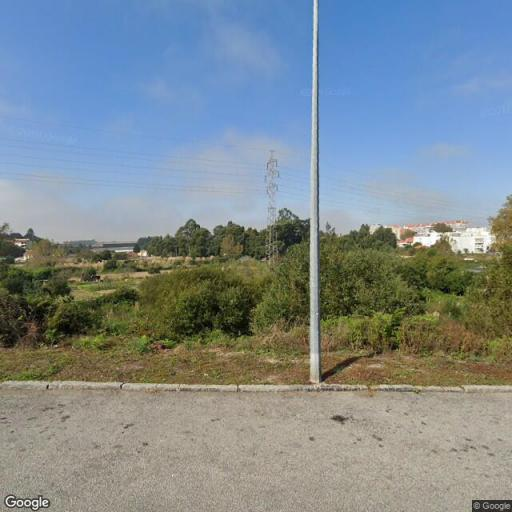ss_3: (262, 148, 280, 266)
